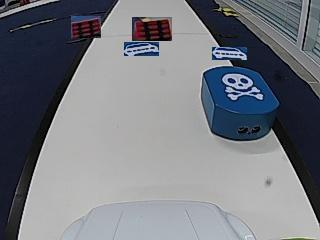danger: (223, 73, 261, 100)
